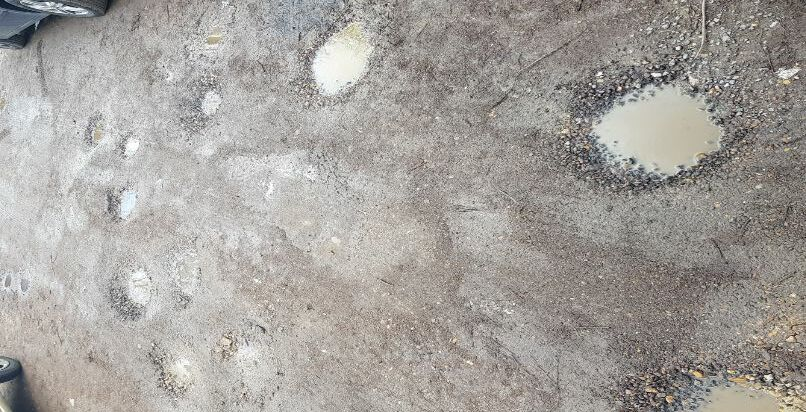pothole: (560, 55, 746, 201), (618, 354, 806, 412), (304, 8, 392, 100), (103, 257, 161, 321), (189, 73, 225, 124), (105, 181, 144, 219), (76, 111, 107, 149), (118, 129, 143, 160)
